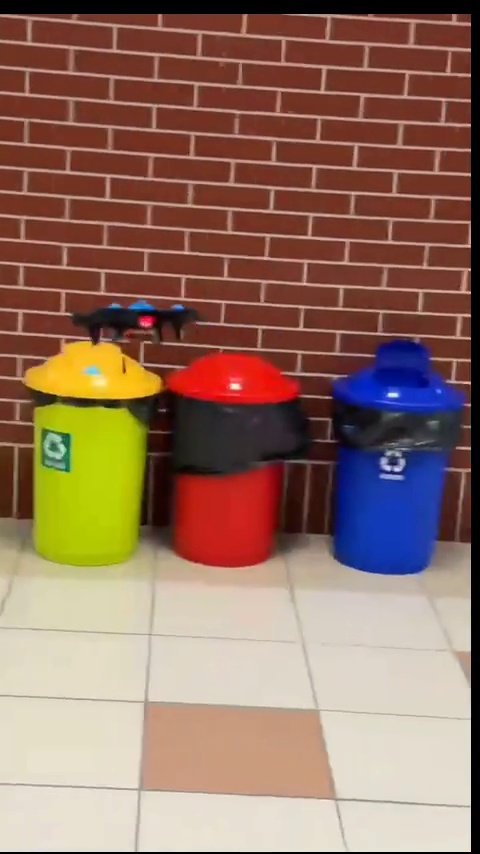drone: (75, 296, 216, 346)
